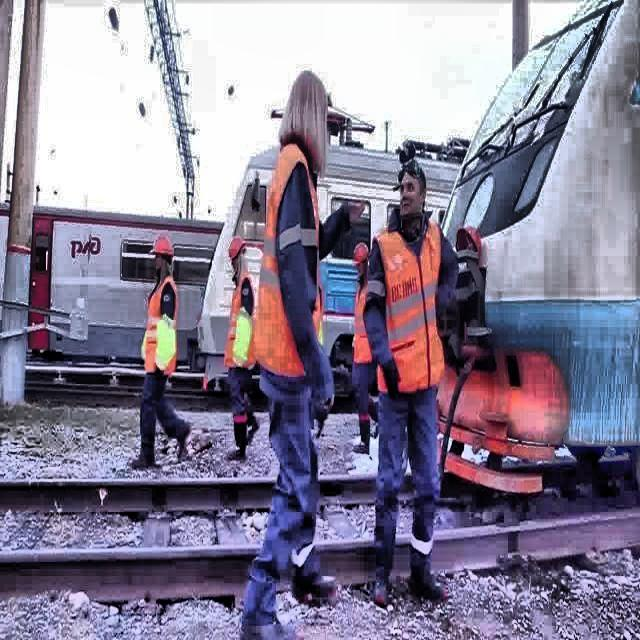safety_helmet: (454, 226, 482, 254), (150, 235, 176, 257), (353, 242, 369, 270), (228, 241, 244, 266)
safety_jacket: (255, 144, 319, 373), (375, 216, 443, 398), (142, 278, 178, 379), (222, 272, 255, 370), (152, 314, 178, 374), (352, 278, 370, 364), (232, 308, 252, 371)
